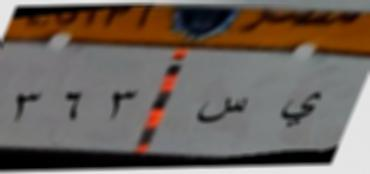3: (107, 83, 146, 124), (11, 86, 42, 128)
6: (62, 83, 88, 131)
seen: (194, 92, 252, 129)
yaa: (274, 87, 324, 134)
